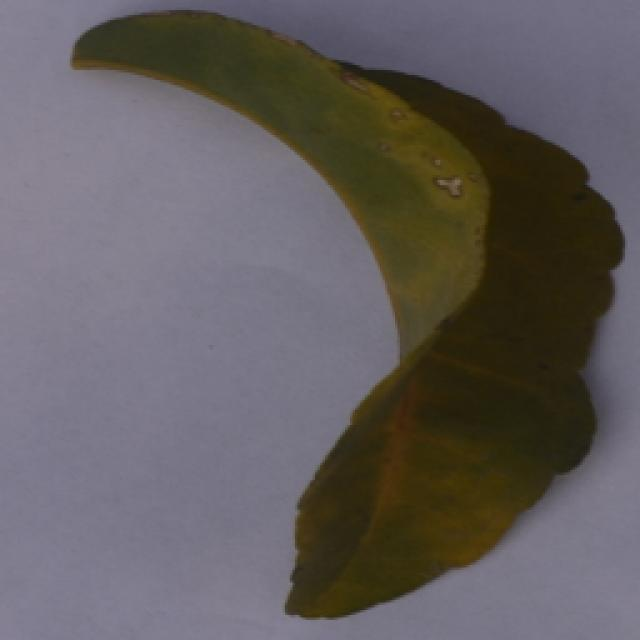greening: (64, 0, 637, 622)
